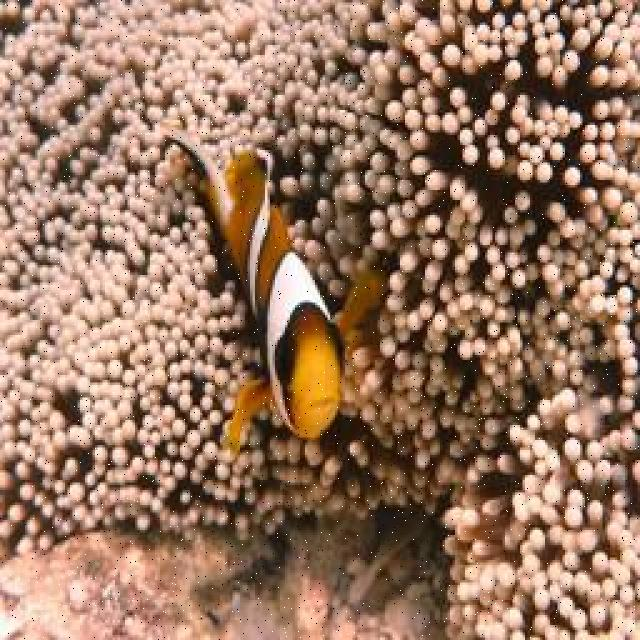fish: (160, 127, 381, 453)
reefs: (0, 0, 638, 638)
